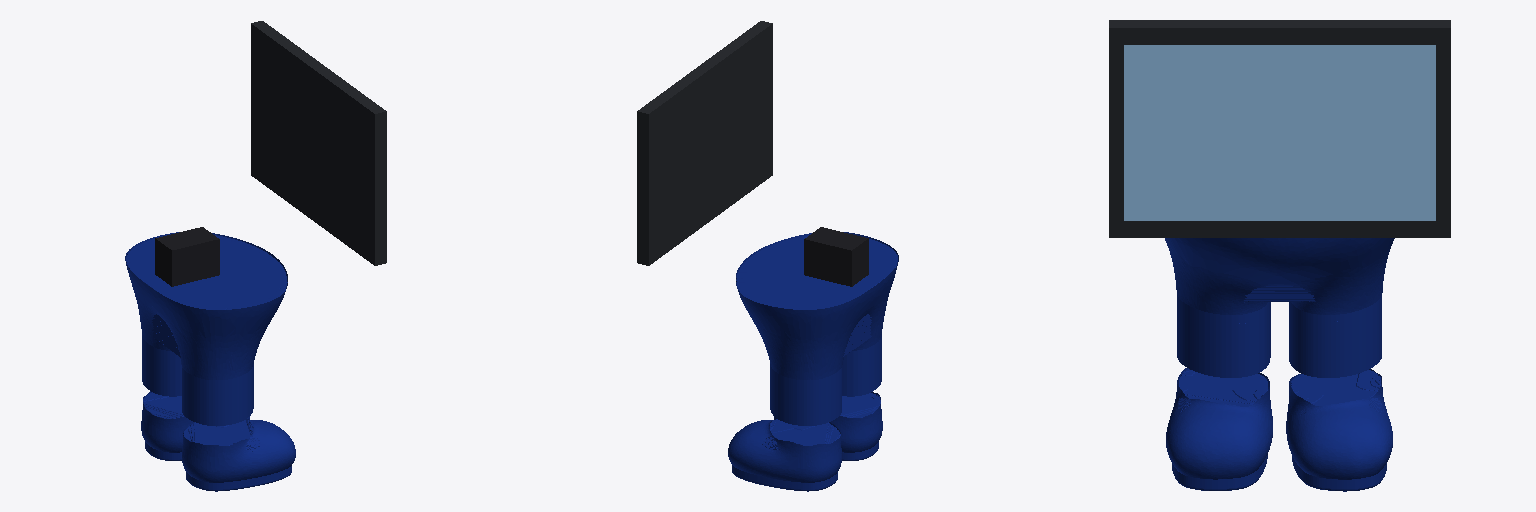
URDF robot description (haetburi):
<?xml version="1.0"?>
<!-- Haetburi biped (v13_ankle_pitch_display) - generated by tools/build_model.py, do not edit by hand -->
<robot name="haetburi">
  <mujoco>
    <compiler meshdir="." balanceinertia="true" discardvisual="false" strippath="false" fusestatic="false"/>
  </mujoco>
  <material name="display"><color rgba="0.18 0.19 0.21 1"/></material>
  <material name="screen"><color rgba="0.62 0.80 0.95 1"/></material>
  <material name="shell"><color rgba="0.106 0.216 0.541 1"/></material>
  <material name="motor"><color rgba="0.15 0.15 0.17 1"/></material>
  <material name="foot"><color rgba="0.25 0.25 0.28 1"/></material>
  <link name="world"/>
  <joint name="floating_base" type="floating">
    <parent link="world"/><child link="pelvis"/>
    <origin xyz="0 0 0" rpy="0 0 0"/>
  </joint>
  <link name="pelvis">
    <inertial>
      <origin xyz="0.0146851 -8.54301e-05 0.0303763" rpy="0 0 0"/>
      <mass value="0.597786"/>
      <inertia ixx="0.000572979" ixy="-5.6451e-07" ixz="-2.15052e-05" iyy="0.000360079" iyz="3.01724e-07" izz="0.000694442"/>
    </inertial>
    <visual><origin xyz="0 0 0" rpy="0 0 0"/><geometry><mesh filename="meshes/pelvis.stl"/></geometry><material name="shell"/></visual>
    <visual><origin xyz="0.0120037 0.0340197 0.041" rpy="0 0 0"/><geometry><box size="0.0465 0.0285 0.034"/></geometry><material name="motor"/></visual>
    <visual><origin xyz="0.0119963 -0.0344395 0.041" rpy="0 0 0"/><geometry><box size="0.0465 0.0285 0.034"/></geometry><material name="motor"/></visual>
    <collision><origin xyz="0.0105081 -0.000221698 0.032725" rpy="0 0 0"/><geometry><box size="0.122402 0.162476 0.06545"/></geometry></collision>
  </link>
  <link name="torso">
    <inertial>
      <origin xyz="0.0120347 0.000203616 0.211235" rpy="0 0 0"/>
      <mass value="3.39413"/>
      <inertia ixx="0.0983117" ixy="-0.000387447" ixz="0.0115431" iyy="0.102847" iyz="-0.000334922" izz="0.0539601"/>
    </inertial>
    <visual><origin xyz="0 0 0" rpy="0 0 0"/><geometry><mesh filename="meshes/torso.stl"/></geometry><material name="shell"/></visual>
    <visual><origin xyz="-0.012 0 0.0175" rpy="0 0 0"/><geometry><box size="0.0465 0.0285 0.034"/></geometry><material name="motor"/></visual>
    <visual><origin xyz="0.116743 0 0.0937566" rpy="0 0 0"/><geometry><box size="0.0115 0.2105 0.1423"/></geometry><material name="display"/></visual>
    <visual><origin xyz="0.122493 0 0.0937566" rpy="0 0 0"/><geometry><box size="0.0004 0.192 0.12"/></geometry><material name="screen"/></visual>
    <collision><origin xyz="-0.0202093 -1.69977e-06 0.0471288" rpy="0 0 0"/><geometry><box size="0.32241 0.172541 0.169892"/></geometry></collision>
    <collision><origin xyz="0.0661878 0.111106 0.0877205" rpy="0 0 0"/><geometry><sphere radius="0.0879747"/></geometry></collision>
    <collision><origin xyz="0.0666454 -0.111311 0.0875462" rpy="0 0 0"/><geometry><sphere radius="0.0878001"/></geometry></collision>
    <collision><origin xyz="-0.00830768 0.000424862 0.170273" rpy="0 0 0"/><geometry><sphere radius="0.165795"/></geometry></collision>
    <collision><origin xyz="-0.0144764 -0.00019533 0.246617" rpy="0 0 0"/><geometry><sphere radius="0.191278"/></geometry></collision>
    <collision><origin xyz="-0.0220435 -0.000322386 0.322975" rpy="0 0 0"/><geometry><sphere radius="0.189062"/></geometry></collision>
    <collision><origin xyz="-0.0172931 0.00136186 0.399328" rpy="0 0 0"/><geometry><sphere radius="0.164397"/></geometry></collision>
    <collision><origin xyz="-0.0102328 0.0107795 0.475729" rpy="0 0 0"/><geometry><sphere radius="0.117177"/></geometry></collision>
    <collision><origin xyz="-0.0187531 -0.00356288 0.552062" rpy="0 0 0"/><geometry><sphere radius="0.0680012"/></geometry></collision>
    <collision><origin xyz="0.116743 0 0.0937566" rpy="0 0 0"/><geometry><box size="0.0115 0.2105 0.1423"/></geometry></collision>
  </link>
  <link name="leg_l">
    <inertial>
      <origin xyz="0.000922213 -0.00140012 -0.0324641" rpy="0 0 0"/>
      <mass value="0.180992"/>
      <inertia ixx="9.57805e-05" ixy="1.30718e-06" ixz="-1.45854e-06" iyy="9.00242e-05" iyz="2.06535e-06" izz="7.04757e-05"/>
    </inertial>
    <visual><origin xyz="0 0 0" rpy="0 0 0"/><geometry><mesh filename="meshes/leg_l.stl"/></geometry><material name="shell"/></visual>
    <visual><origin xyz="0.00397089 -0.00357 -0.02425" rpy="0 0 0"/><geometry><box size="0.0285 0.034 0.0465"/></geometry><material name="motor"/></visual>
    <collision><origin xyz="-7.8706e-07 -1.08503e-05 -0.025" rpy="0 0 0"/><geometry><box size="0.0648948 0.0594546 0.05"/></geometry></collision>
  </link>
  <link name="ankle_l">
    <inertial>
      <origin xyz="0.0056196 -0.00288952 -0.0297275" rpy="0 0 0"/>
      <mass value="0.05"/>
      <inertia ixx="2.13954e-05" ixy="0" ixz="0" iyy="1.63954e-05" iyz="0" izz="8.33333e-06"/>
    </inertial>
  </link>
  <link name="foot_l">
    <inertial>
      <origin xyz="0.0012255 0.0107441 -0.00186089" rpy="0 0 0"/>
      <mass value="0.149794"/>
      <inertia ixx="7.17079e-05" ixy="-3.21363e-06" ixz="-6.7791e-07" iyy="9.76424e-05" iyz="-2.83098e-06" izz="0.000118926"/>
    </inertial>
    <visual><origin xyz="0 0 0" rpy="0 0 0"/><geometry><mesh filename="meshes/foot_l.stl"/></geometry><material name="shell"/></visual>
    <visual><origin xyz="0 0.012 8.88178e-19" rpy="0 0 0"/><geometry><box size="0.034 0.0465 0.0285"/></geometry><material name="motor"/></visual>
    <collision><origin xyz="0 0 0" rpy="0 0 0"/><geometry><mesh filename="meshes/foot_l.stl"/></geometry></collision>
  </link>
  <link name="leg_r">
    <inertial>
      <origin xyz="0.000908506 0.00141186 -0.0324644" rpy="0 0 0"/>
      <mass value="0.180964"/>
      <inertia ixx="9.58448e-05" ixy="-1.38742e-06" ixz="-1.43667e-06" iyy="8.99114e-05" iyz="-2.08083e-06" izz="7.0441e-05"/>
    </inertial>
    <visual><origin xyz="0 0 0" rpy="0 0 0"/><geometry><mesh filename="meshes/leg_r.stl"/></geometry><material name="shell"/></visual>
    <visual><origin xyz="0.00395409 0.00357 -0.02425" rpy="0 0 0"/><geometry><box size="0.0285 0.034 0.0465"/></geometry><material name="motor"/></visual>
    <collision><origin xyz="1.87959e-06 1.72012e-05 -0.025" rpy="0 0 0"/><geometry><box size="0.0648423 0.0595689 0.05"/></geometry></collision>
  </link>
  <link name="ankle_r">
    <inertial>
      <origin xyz="0.00452126 0.00304485 -0.0297275" rpy="0 0 0"/>
      <mass value="0.05"/>
      <inertia ixx="2.13954e-05" ixy="0" ixz="0" iyy="1.63954e-05" iyz="0" izz="8.33333e-06"/>
    </inertial>
  </link>
  <link name="foot_r">
    <inertial>
      <origin xyz="0.00229683 -0.0109198 -0.00191251" rpy="0 0 0"/>
      <mass value="0.149486"/>
      <inertia ixx="7.13723e-05" ixy="3.63287e-06" ixz="-7.75189e-07" iyy="9.77393e-05" iyz="2.88465e-06" izz="0.000119138"/>
    </inertial>
    <visual><origin xyz="0 0 0" rpy="0 0 0"/><geometry><mesh filename="meshes/foot_r.stl"/></geometry><material name="shell"/></visual>
    <visual><origin xyz="0 -0.012 8.88178e-19" rpy="0 0 0"/><geometry><box size="0.034 0.0465 0.0285"/></geometry><material name="motor"/></visual>
    <collision><origin xyz="0 0 0" rpy="0 0 0"/><geometry><mesh filename="meshes/foot_r.stl"/></geometry></collision>
  </link>
  <joint name="waist_yaw" type="revolute">
    <parent link="pelvis"/><child link="torso"/>
    <origin xyz="0 0 0.06545" rpy="0 0 0"/>
    <axis xyz="0 0 1"/>
    <limit lower="-1.0472" upper="1.0472" effort="1.4" velocity="5.97"/>
    <dynamics damping="0.1" friction="0.04"/>
  </joint>
  <joint name="hip_yaw_l" type="revolute">
    <parent link="pelvis"/><child link="leg_l"/>
    <origin xyz="3.66423e-06 0.0340197 0" rpy="0 0 0"/>
    <axis xyz="0 0 1"/>
    <limit lower="-0.523599" upper="0.523599" effort="1.4" velocity="5.97"/>
    <dynamics damping="0.1" friction="0.04"/>
  </joint>
  <joint name="hip_yaw_r" type="revolute">
    <parent link="pelvis"/><child link="leg_r"/>
    <origin xyz="-3.66423e-06 -0.0344395 0" rpy="0 0 0"/>
    <axis xyz="0 0 1"/>
    <limit lower="-0.523599" upper="0.523599" effort="1.4" velocity="5.97"/>
    <dynamics damping="0.1" friction="0.04"/>
  </joint>
  <joint name="ankle_pitch_l" type="revolute">
    <parent link="leg_l"/><child link="ankle_l"/>
    <origin xyz="0.00397089 -0.00357 -0.03625" rpy="0 0 0"/>
    <axis xyz="0 1 0"/>
    <limit lower="-0.261799" upper="0.261799" effort="1.4" velocity="5.97"/>
    <dynamics damping="0.1" friction="0.04"/>
  </joint>
  <joint name="ankle_pitch_r" type="revolute">
    <parent link="leg_r"/><child link="ankle_r"/>
    <origin xyz="0.00395409 0.00357 -0.03625" rpy="0 0 0"/>
    <axis xyz="0 1 0"/>
    <limit lower="-0.261799" upper="0.261799" effort="1.4" velocity="5.97"/>
    <dynamics damping="0.1" friction="0.04"/>
  </joint>
  <joint name="ankle_roll_l" type="revolute">
    <parent link="ankle_l"/><child link="foot_l"/>
    <origin xyz="0.0112392 -0.00577904 -0.059455" rpy="0 0 0"/>
    <axis xyz="1 0 0"/>
    <limit lower="-0.261799" upper="0.261799" effort="1.4" velocity="5.97"/>
    <dynamics damping="0.1" friction="0.04"/>
  </joint>
  <joint name="ankle_roll_r" type="revolute">
    <parent link="ankle_r"/><child link="foot_r"/>
    <origin xyz="0.00904252 0.0060897 -0.059455" rpy="0 0 0"/>
    <axis xyz="1 0 0"/>
    <limit lower="-0.261799" upper="0.261799" effort="1.4" velocity="5.97"/>
    <dynamics damping="0.1" friction="0.04"/>
  </joint>
</robot>

--- Facts derived from the render (not from the file) ---
3 views of the same robot in one strip: view 1: azimuth 30°, elevation 25°; view 2: azimuth 150°, elevation 25°; view 3: azimuth 270°, elevation 25° (orthographic).
Model haetburi with 9 links and 8 joints (7 revolute, 1 floating), rooted at world, posed all joints at 0.
Links seen in each view (by area): view 1: torso, pelvis, foot_r, leg_r, foot_l, leg_l; view 2: torso, pelvis, foot_l, leg_l, foot_r, leg_r; view 3: torso, pelvis, foot_r, foot_l, leg_r, leg_l.
Boxes of the visible links, x1,y1,x2,y2 form: torso: [155, 21, 386, 286]; pelvis: [125, 232, 287, 372]; foot_r: [182, 419, 295, 491]; leg_r: [181, 359, 254, 425]; foot_l: [141, 391, 249, 460]; leg_l: [142, 331, 181, 396]; torso: [637, 21, 868, 286]; pelvis: [736, 232, 898, 372]; foot_l: [728, 419, 841, 491]; leg_l: [769, 359, 843, 425]; foot_r: [774, 392, 882, 460]; leg_r: [842, 331, 881, 396]; torso: [1109, 20, 1450, 237]; pelvis: [1165, 238, 1394, 305]; foot_r: [1166, 368, 1272, 490]; foot_l: [1286, 369, 1392, 491]; leg_r: [1176, 285, 1270, 377]; leg_l: [1289, 285, 1382, 377].
Size in the robot's own frame: 0.1734 by 0.2105 by 0.3434 metres.
Meshes: 6 distinct files referenced, 5 mesh visuals loaded (5 binary STL); not drawn: 1 (reference not matched to a file when rendering).
